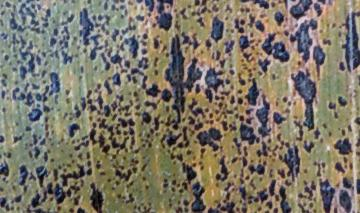tarspot: (164, 32, 203, 130), (289, 67, 318, 132), (289, 18, 319, 63), (340, 10, 360, 74), (18, 32, 41, 80), (276, 141, 302, 183), (261, 31, 289, 64), (256, 93, 272, 137), (196, 127, 223, 153), (76, 6, 93, 47), (153, 1, 175, 31), (318, 177, 336, 213), (60, 163, 86, 187), (204, 65, 225, 93), (89, 33, 108, 61), (287, 1, 313, 21), (312, 44, 326, 81), (209, 13, 225, 45), (244, 77, 260, 108), (89, 182, 105, 213), (237, 120, 255, 146), (191, 182, 206, 213), (110, 50, 129, 72), (332, 136, 353, 155), (124, 32, 139, 58), (215, 155, 229, 182), (279, 186, 293, 213), (24, 6, 41, 26), (48, 70, 61, 96), (338, 189, 352, 213), (35, 164, 49, 188), (120, 15, 137, 34), (54, 182, 67, 205), (292, 118, 304, 142), (17, 164, 29, 187), (8, 31, 20, 54), (166, 130, 183, 146), (111, 93, 125, 112), (312, 159, 326, 178), (99, 51, 111, 73), (257, 57, 271, 74), (93, 90, 104, 111), (181, 125, 191, 148), (113, 169, 132, 181), (185, 164, 196, 184), (191, 31, 202, 51), (17, 3, 27, 25), (61, 49, 73, 67), (223, 39, 235, 57), (27, 108, 42, 122), (272, 111, 287, 125), (238, 35, 249, 54), (145, 84, 161, 97), (59, 13, 75, 26), (273, 10, 285, 27), (23, 90, 34, 108), (39, 7, 52, 22), (333, 161, 348, 174), (8, 11, 18, 30), (137, 56, 150, 70), (1, 159, 11, 177), (144, 100, 160, 111), (161, 88, 172, 104), (312, 1, 323, 17), (303, 184, 314, 200), (109, 26, 119, 43), (215, 111, 229, 123), (295, 201, 309, 213), (221, 201, 235, 213), (69, 123, 80, 138), (179, 31, 190, 46), (342, 175, 353, 190), (257, 189, 268, 204), (40, 85, 50, 101), (246, 12, 256, 28), (253, 20, 266, 32), (242, 52, 255, 64), (85, 98, 96, 112), (179, 7, 190, 21), (31, 193, 42, 207), (88, 128, 97, 145), (204, 88, 213, 105), (103, 79, 112, 95), (18, 65, 27, 81), (336, 95, 348, 107), (303, 141, 315, 153), (268, 179, 276, 197), (96, 117, 107, 130), (267, 144, 278, 157), (112, 73, 122, 87), (188, 97, 198, 111), (190, 107, 204, 117), (152, 34, 160, 51), (253, 1, 270, 9), (159, 133, 167, 150), (135, 205, 152, 213), (11, 86, 20, 101), (153, 113, 160, 132), (142, 111, 152, 124), (120, 136, 130, 149), (73, 103, 81, 119), (79, 94, 86, 112), (73, 143, 87, 152), (61, 25, 70, 39), (261, 140, 268, 158), (69, 186, 83, 195), (144, 1, 155, 12), (103, 104, 111, 119), (354, 177, 360, 197), (133, 14, 146, 23), (98, 132, 105, 148), (130, 67, 144, 75), (237, 72, 245, 86), (164, 114, 172, 128), (107, 126, 115, 140), (238, 186, 246, 200), (46, 181, 54, 195), (223, 3, 233, 14), (117, 117, 128, 127), (33, 146, 42, 158), (12, 135, 24, 144), (196, 16, 205, 28), (256, 164, 265, 176), (72, 194, 81, 206), (313, 128, 321, 141), (126, 192, 134, 205), (232, 136, 242, 146), (173, 20, 182, 31), (276, 168, 285, 179), (111, 137, 120, 148), (124, 100, 133, 111), (244, 107, 255, 116), (265, 200, 274, 211), (223, 181, 232, 192), (204, 39, 212, 51), (103, 13, 111, 25), (199, 147, 207, 159), (241, 156, 249, 168), (249, 178, 256, 191), (142, 75, 148, 90), (101, 144, 110, 154), (42, 104, 51, 114), (127, 117, 136, 127), (245, 116, 255, 125), (187, 116, 196, 126), (247, 164, 256, 174), (275, 132, 284, 142), (297, 191, 307, 200), (220, 120, 228, 131), (30, 27, 41, 35), (53, 49, 61, 60), (77, 151, 85, 162), (31, 133, 38, 145), (53, 93, 60, 105), (35, 92, 42, 104), (53, 168, 59, 182), (129, 134, 136, 146), (241, 145, 248, 157), (206, 207, 220, 213), (228, 123, 237, 132), (230, 156, 239, 165), (327, 101, 336, 110), (322, 37, 331, 46), (131, 75, 139, 85), (211, 3, 219, 13), (31, 81, 39, 91), (39, 69, 47, 79), (194, 123, 204, 131), (110, 112, 118, 122), (14, 194, 22, 204), (215, 49, 221, 62), (32, 207, 45, 213), (18, 91, 25, 102), (194, 83, 201, 94), (24, 125, 35, 132), (338, 61, 345, 72), (310, 178, 317, 189), (268, 168, 275, 179), (176, 153, 184, 162), (43, 150, 49, 162), (64, 97, 72, 106), (282, 1, 290, 10), (35, 54, 41, 66), (134, 102, 142, 111), (140, 39, 148, 48), (1, 32, 9, 41), (140, 163, 148, 172), (39, 137, 47, 146), (16, 58, 25, 66), (354, 115, 360, 127), (354, 135, 360, 147), (42, 190, 48, 202), (1, 196, 7, 208), (71, 35, 77, 47), (128, 126, 135, 136), (29, 171, 36, 181), (22, 81, 29, 91), (114, 126, 121, 136), (256, 149, 263, 159), (147, 140, 154, 150), (271, 72, 278, 82), (153, 56, 159, 67), (86, 88, 92, 99), (233, 17, 239, 28), (230, 94, 236, 105), (236, 145, 242, 156), (225, 191, 231, 202), (66, 188, 72, 199), (237, 27, 245, 35), (121, 129, 129, 137), (132, 89, 140, 97), (4, 1, 12, 9), (183, 198, 191, 206), (64, 87, 71, 96), (79, 65, 86, 74), (200, 6, 207, 15), (219, 59, 226, 68), (41, 50, 48, 59), (340, 127, 347, 136), (348, 161, 355, 170), (273, 99, 280, 108), (181, 182, 188, 191), (26, 149, 32, 159), (1, 77, 7, 87), (102, 1, 108, 11), (49, 37, 55, 47), (220, 90, 230, 96), (93, 63, 99, 73), (333, 110, 339, 120), (218, 100, 224, 110), (76, 207, 86, 213), (88, 114, 94, 124), (141, 48, 149, 55), (176, 141, 184, 148), (6, 151, 13, 159), (91, 14, 98, 22), (124, 60, 131, 68), (213, 93, 220, 101), (117, 164, 125, 171), (133, 147, 141, 154), (118, 3, 126, 10), (185, 148, 192, 156), (43, 59, 50, 67), (175, 206, 183, 213), (126, 181, 133, 189), (181, 162, 186, 173), (1, 89, 6, 100), (53, 27, 58, 38), (86, 167, 92, 176), (95, 160, 101, 169), (283, 29, 289, 38), (85, 151, 91, 160), (100, 24, 106, 33), (236, 96, 242, 105), (63, 40, 69, 49), (25, 1, 43, 4), (173, 10, 179, 19), (126, 73, 131, 83), (119, 42, 124, 52), (44, 121, 49, 131), (63, 112, 68, 122), (239, 19, 246, 26), (249, 44, 256, 51), (285, 179, 292, 186), (131, 166, 138, 173), (94, 21, 101, 28), (236, 88, 243, 95), (111, 153, 118, 160), (35, 3, 42, 10), (29, 3, 36, 10), (302, 168, 309, 175), (115, 193, 122, 200), (253, 197, 260, 204), (241, 206, 248, 213), (215, 202, 222, 209), (257, 176, 264, 183), (91, 121, 97, 129), (282, 95, 288, 103), (142, 32, 148, 40), (1, 72, 9, 78), (10, 67, 18, 73), (134, 158, 140, 166), (97, 13, 103, 21), (159, 118, 165, 126), (124, 111, 132, 117), (132, 3, 138, 11), (226, 109, 234, 115), (58, 39, 64, 47), (41, 21, 49, 27), (251, 65, 257, 73), (347, 124, 353, 132), (327, 129, 333, 137), (220, 94, 226, 102), (214, 107, 220, 115), (334, 181, 340, 189), (302, 177, 308, 185), (162, 182, 170, 188), (183, 205, 189, 213), (4, 204, 10, 212), (72, 52, 80, 58), (1, 134, 6, 143), (80, 135, 89, 140), (210, 52, 215, 61), (110, 3, 115, 12), (105, 28, 110, 37), (140, 4, 145, 13), (337, 30, 342, 39), (239, 168, 244, 177), (316, 1, 327, 5), (151, 23, 157, 30), (146, 12, 153, 18), (96, 83, 102, 90), (201, 1, 208, 7), (259, 13, 266, 19), (270, 1, 276, 8), (44, 115, 50, 122), (229, 69, 235, 76), (224, 78, 231, 84), (249, 38, 256, 44), (239, 115, 245, 122), (85, 159, 91, 166), (41, 79, 47, 86), (4, 54, 10, 61), (149, 127, 155, 134), (255, 137, 261, 144), (232, 106, 239, 112), (247, 72, 253, 79), (341, 156, 348, 162), (343, 163, 349, 170), (321, 122, 327, 129), (331, 22, 337, 29), (318, 28, 324, 35), (327, 1, 334, 7), (332, 206, 338, 213), (214, 182, 220, 189), (68, 207, 75, 213), (25, 206, 31, 213), (56, 204, 62, 211), (48, 196, 55, 202), (11, 184, 17, 191), (1, 8, 7, 15), (35, 103, 43, 108), (193, 1, 201, 6), (209, 112, 214, 120), (170, 152, 175, 160), (235, 112, 240, 120), (355, 149, 360, 157), (262, 158, 267, 166), (1, 184, 5, 194), (78, 74, 83, 82), (1, 17, 5, 27), (357, 73, 360, 86), (1, 107, 7, 113), (164, 52, 170, 58), (123, 9, 129, 15), (141, 176, 147, 182), (51, 1, 57, 7), (70, 159, 76, 165), (242, 65, 248, 71), (325, 21, 331, 27), (144, 184, 150, 190), (246, 199, 252, 205), (123, 148, 129, 154), (256, 205, 262, 211), (248, 157, 254, 163), (68, 111, 74, 117), (172, 6, 178, 12), (165, 105, 170, 112), (154, 69, 159, 76), (98, 171, 105, 176), (257, 37, 262, 44), (163, 44, 168, 51), (82, 47, 87, 54), (49, 52, 56, 57), (45, 131, 50, 138), (267, 137, 272, 144), (280, 139, 285, 146), (172, 179, 177, 186), (235, 206, 240, 213), (257, 157, 262, 164), (239, 178, 244, 185), (121, 194, 126, 201), (172, 171, 177, 178), (177, 199, 181, 207), (297, 60, 302, 66), (186, 4, 192, 9), (206, 8, 211, 14), (245, 7, 250, 13), (249, 31, 254, 37), (56, 164, 62, 169), (62, 167, 67, 173), (209, 119, 214, 125), (204, 107, 209, 113), (119, 13, 124, 19), (126, 1, 131, 7), (244, 174, 249, 180), (146, 133, 151, 139), (142, 142, 147, 148), (138, 131, 143, 137), (12, 54, 18, 59), (40, 28, 46, 33), (247, 78, 252, 84), (257, 71, 263, 76), (278, 145, 283, 151), (273, 207, 278, 213), (170, 187, 176, 192), (199, 165, 205, 170), (163, 177, 168, 183), (114, 181, 120, 186), (122, 155, 127, 161), (168, 203, 173, 209), (233, 173, 238, 179), (162, 188, 167, 194), (224, 15, 228, 22), (130, 157, 134, 164), (62, 9, 66, 16), (110, 186, 117, 190), (172, 159, 176, 166), (191, 129, 195, 136), (1, 177, 6, 182), (247, 67, 252, 72), (247, 195, 252, 200), (22, 187, 27, 192), (10, 206, 15, 211), (171, 146, 176, 151), (198, 160, 203, 165), (68, 116, 73, 121), (168, 197, 173, 202), (50, 157, 54, 163), (240, 7, 244, 13), (86, 1, 92, 5), (319, 136, 323, 142), (178, 189, 184, 193), (10, 198, 14, 204), (239, 1, 250, 3), (112, 1, 119, 4), (16, 1, 23, 4), (107, 178, 111, 183), (2, 151, 6, 156), (140, 138, 145, 142), (68, 153, 73, 157), (16, 206, 20, 211), (119, 1, 125, 4), (70, 1, 76, 4), (264, 210, 270, 213), (135, 1, 143, 3), (4, 180, 8, 184), (63, 1, 68, 4), (290, 1, 297, 3), (210, 1, 220, 2)
